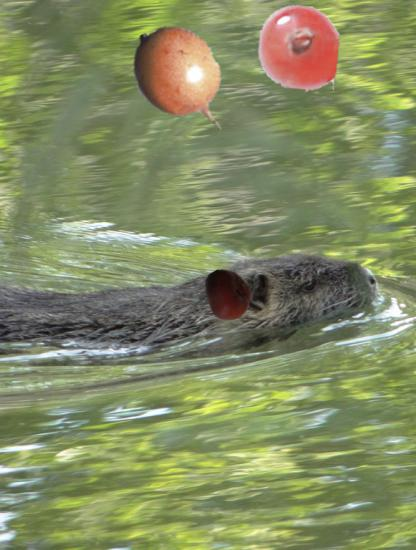Granadilla: (122, 21, 244, 143)
Nectarine: (201, 268, 254, 321)
Redcurrant: (255, 5, 342, 92)
